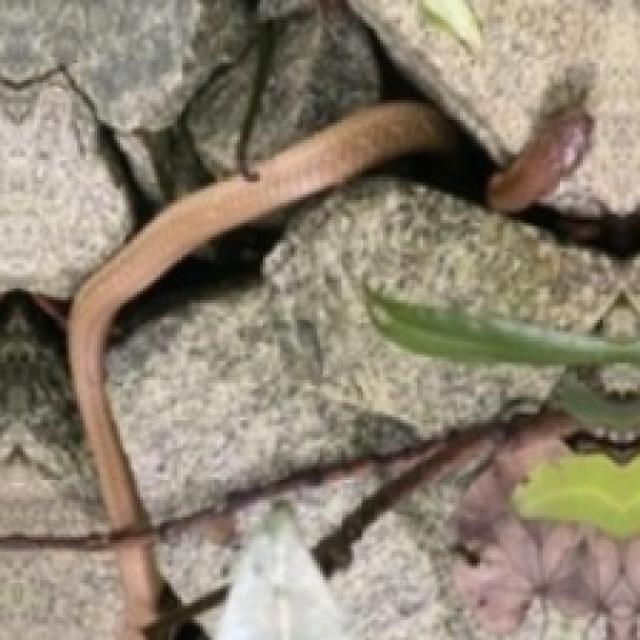king cobra: (70, 106, 454, 639), (488, 109, 592, 212)
